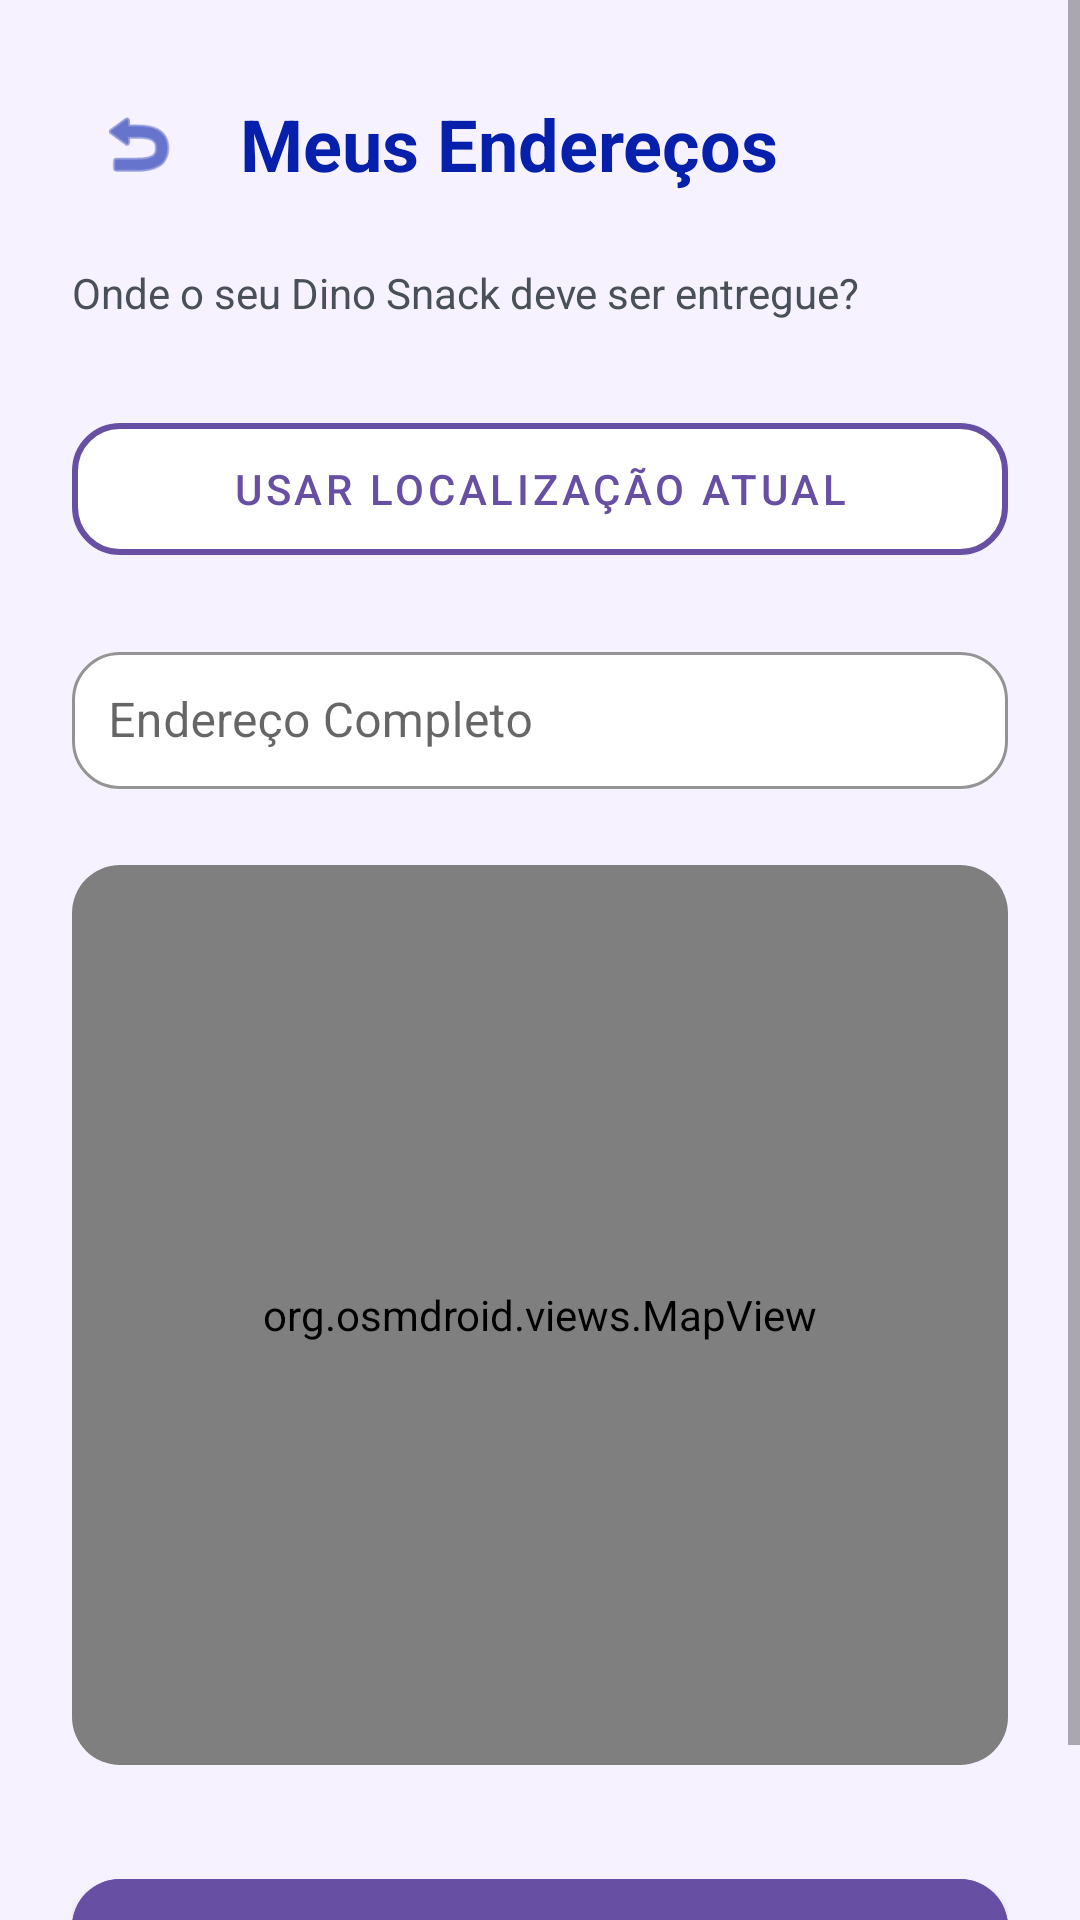

Point at icon controls on the screen. Image size 1080*1920, points as [x,y].
revert: [139,144]
